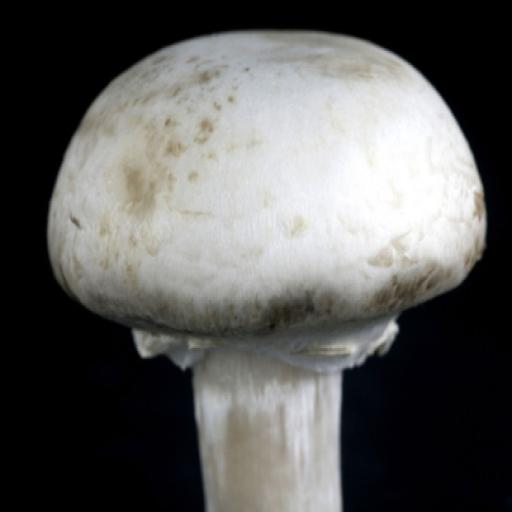Button Mushroom: (41, 27, 494, 506)
